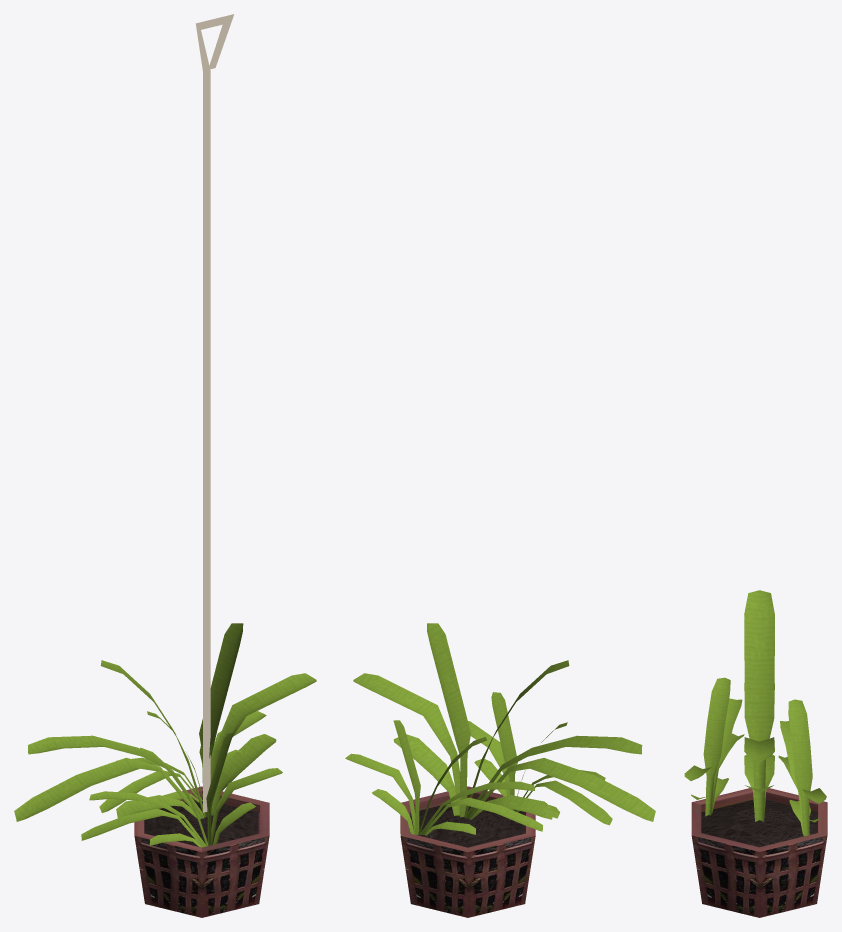
The model's file is cay-lan-kiem.glb.
3 renders of one model, left to right at view 1: azimuth 30°, elevation 25°; view 2: azimuth 150°, elevation 25°; view 3: azimuth 270°, elevation 25°, orthographic.
Visible parts, largest first — view 1: Lan_Ki?m; view 2: Lan_Ki?m; view 3: Lan_Ki?m.
Boxes of the visible parts, x1,y1,x2,y2 form: Lan_Ki?m: (14, 14, 316, 917); Lan_Ki?m: (345, 623, 655, 917); Lan_Ki?m: (684, 590, 827, 917).
Size of the model in its own units: 0.2616 by 0.7242 by 0.1076.
1 material, 1 textured.
